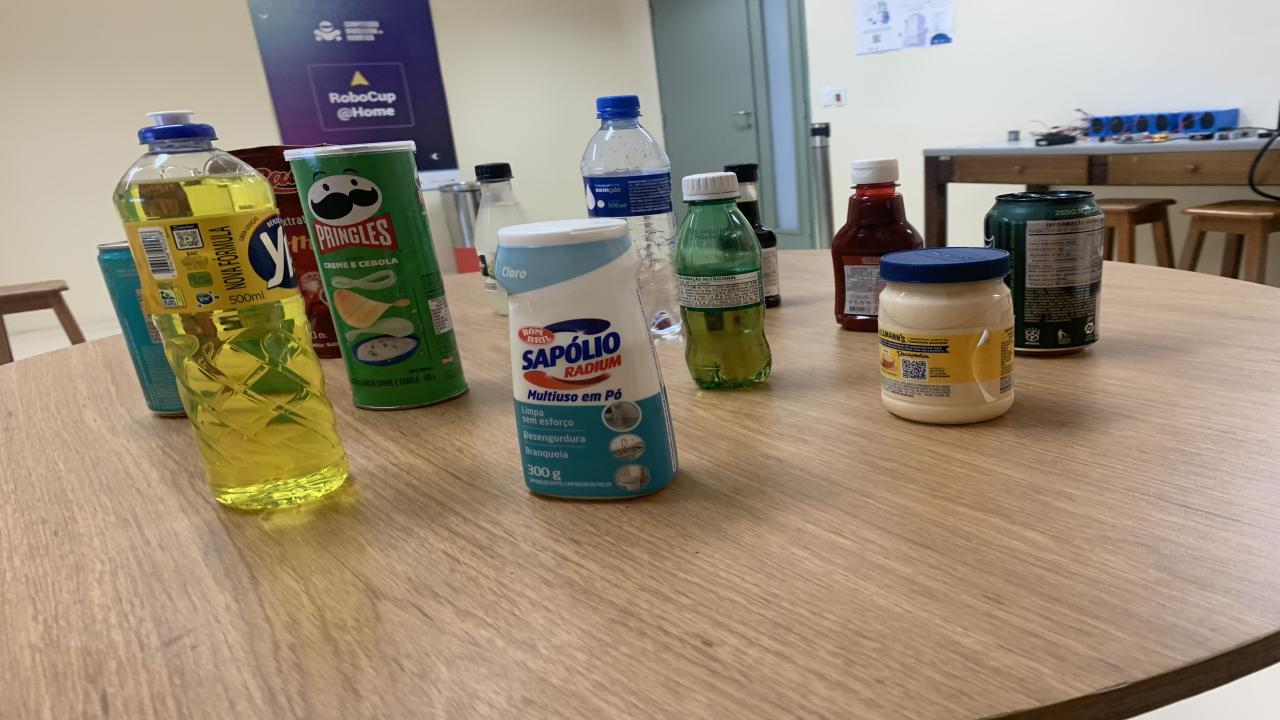Cleaner-Cleanup_Items: (495, 218, 678, 499)
Detergent-Cleanup_Items: (112, 112, 350, 510)
English_Sauce-Pantry_Items: (725, 165, 780, 308)
Guarana-Drinks: (675, 172, 770, 388)
Guarana_Can-Drinks: (985, 191, 1105, 352)
Ketchup-Pantry_Items: (832, 158, 922, 332)
Mayonnaise-Pantry_Items: (878, 248, 1015, 424)
Pringles-Snacks: (285, 142, 468, 409)
Soda-Drinks: (475, 163, 530, 315)
Tea-Drinks: (98, 244, 185, 416)
Tomato_Sauce-Pantry_Items: (230, 146, 340, 358)
Water_Bottle-Drinks: (580, 98, 682, 336)
